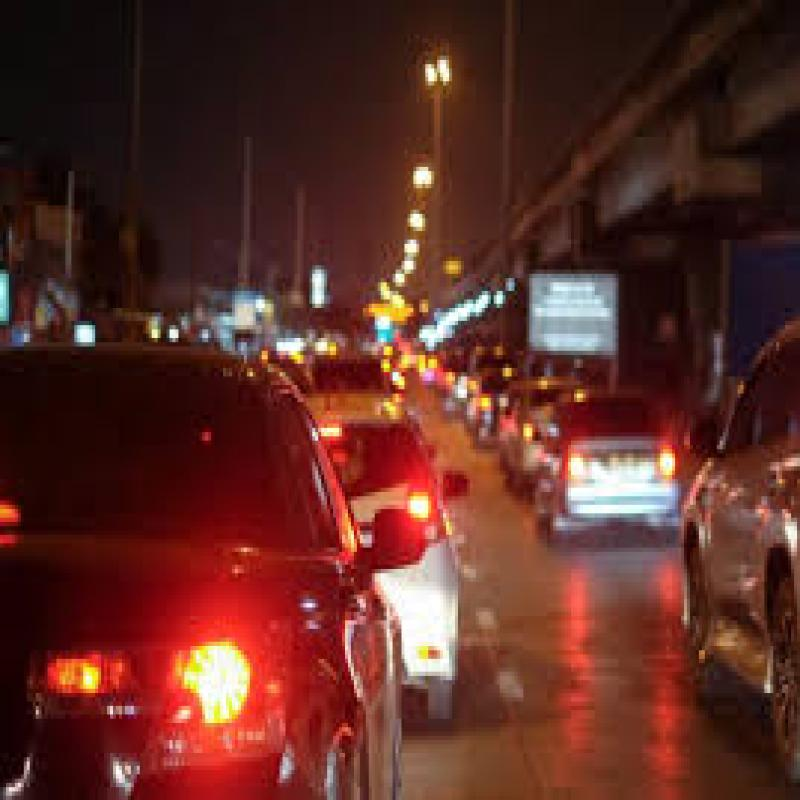car: (0, 312, 390, 800), (324, 390, 458, 764), (534, 362, 724, 575)
